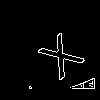X: (29, 24, 87, 81)
